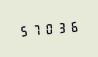five: (18, 22, 29, 38)
seven: (30, 21, 41, 37)
six: (66, 18, 77, 34)
three: (54, 19, 65, 35)
zero: (42, 20, 53, 36)
